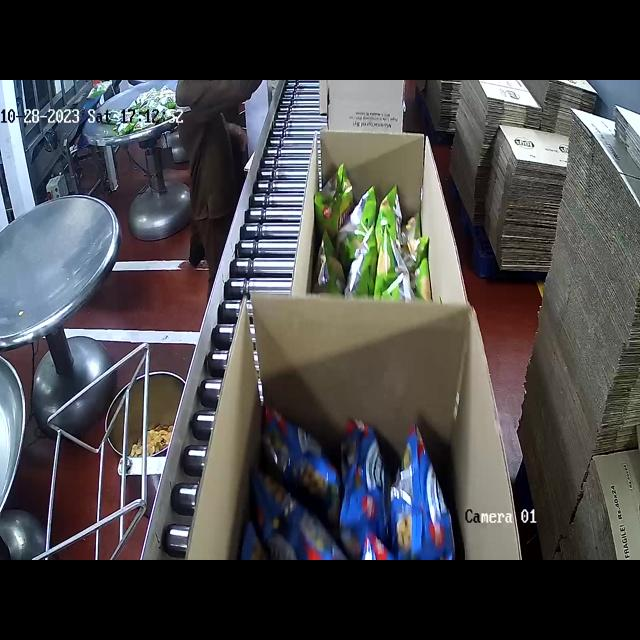paprika: (258, 410, 467, 560)
yogurt: (311, 162, 431, 302)
